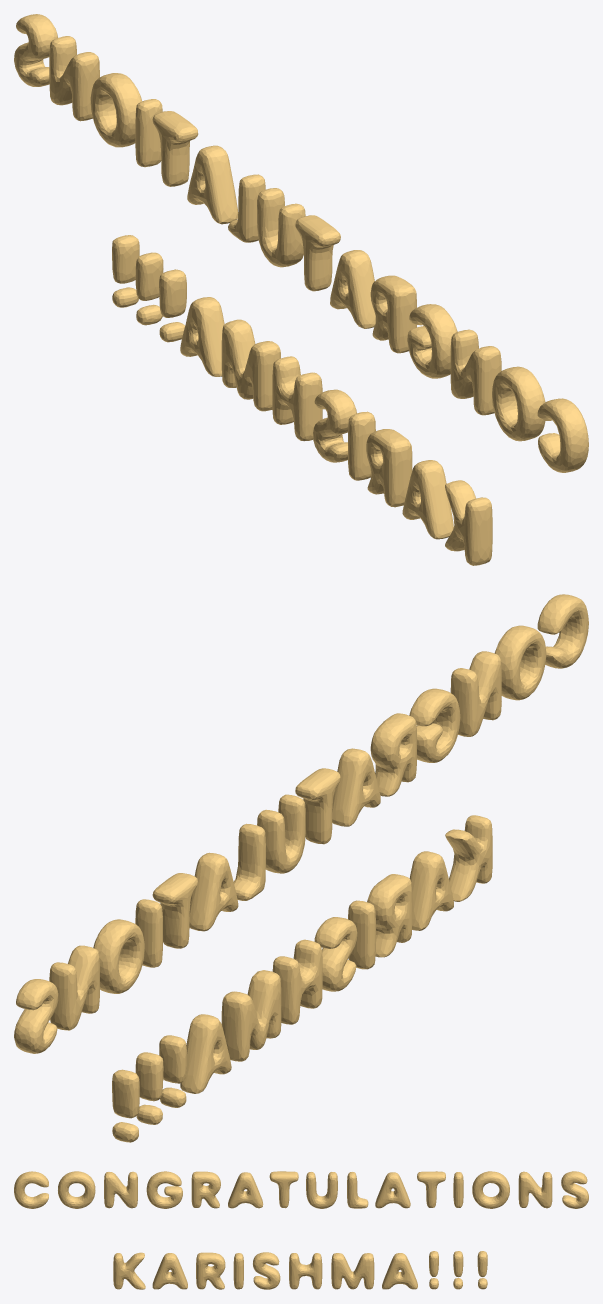
The model's file is metallicGoldTransparent.glb.
The picture shows the model from 3 angles, top to bottom: view 1: azimuth 30°, elevation 25°; view 2: azimuth 150°, elevation 25°; view 3: azimuth 270°, elevation 25°; orthographic projection. The views are drawn at different scales.
Visible parts, largest first — view 1: Text.007; view 2: Text.007; view 3: Text.007.
Part boxes in pixels (left/top/right/bottom): Text.007: left=14, top=14, right=588, bottom=565; Text.007: left=14, top=594, right=588, bottom=1142; Text.007: left=14, top=1171, right=588, bottom=1289.
Bounding box in the file's own units: 0.1753 × 1.43 × 6.44.
